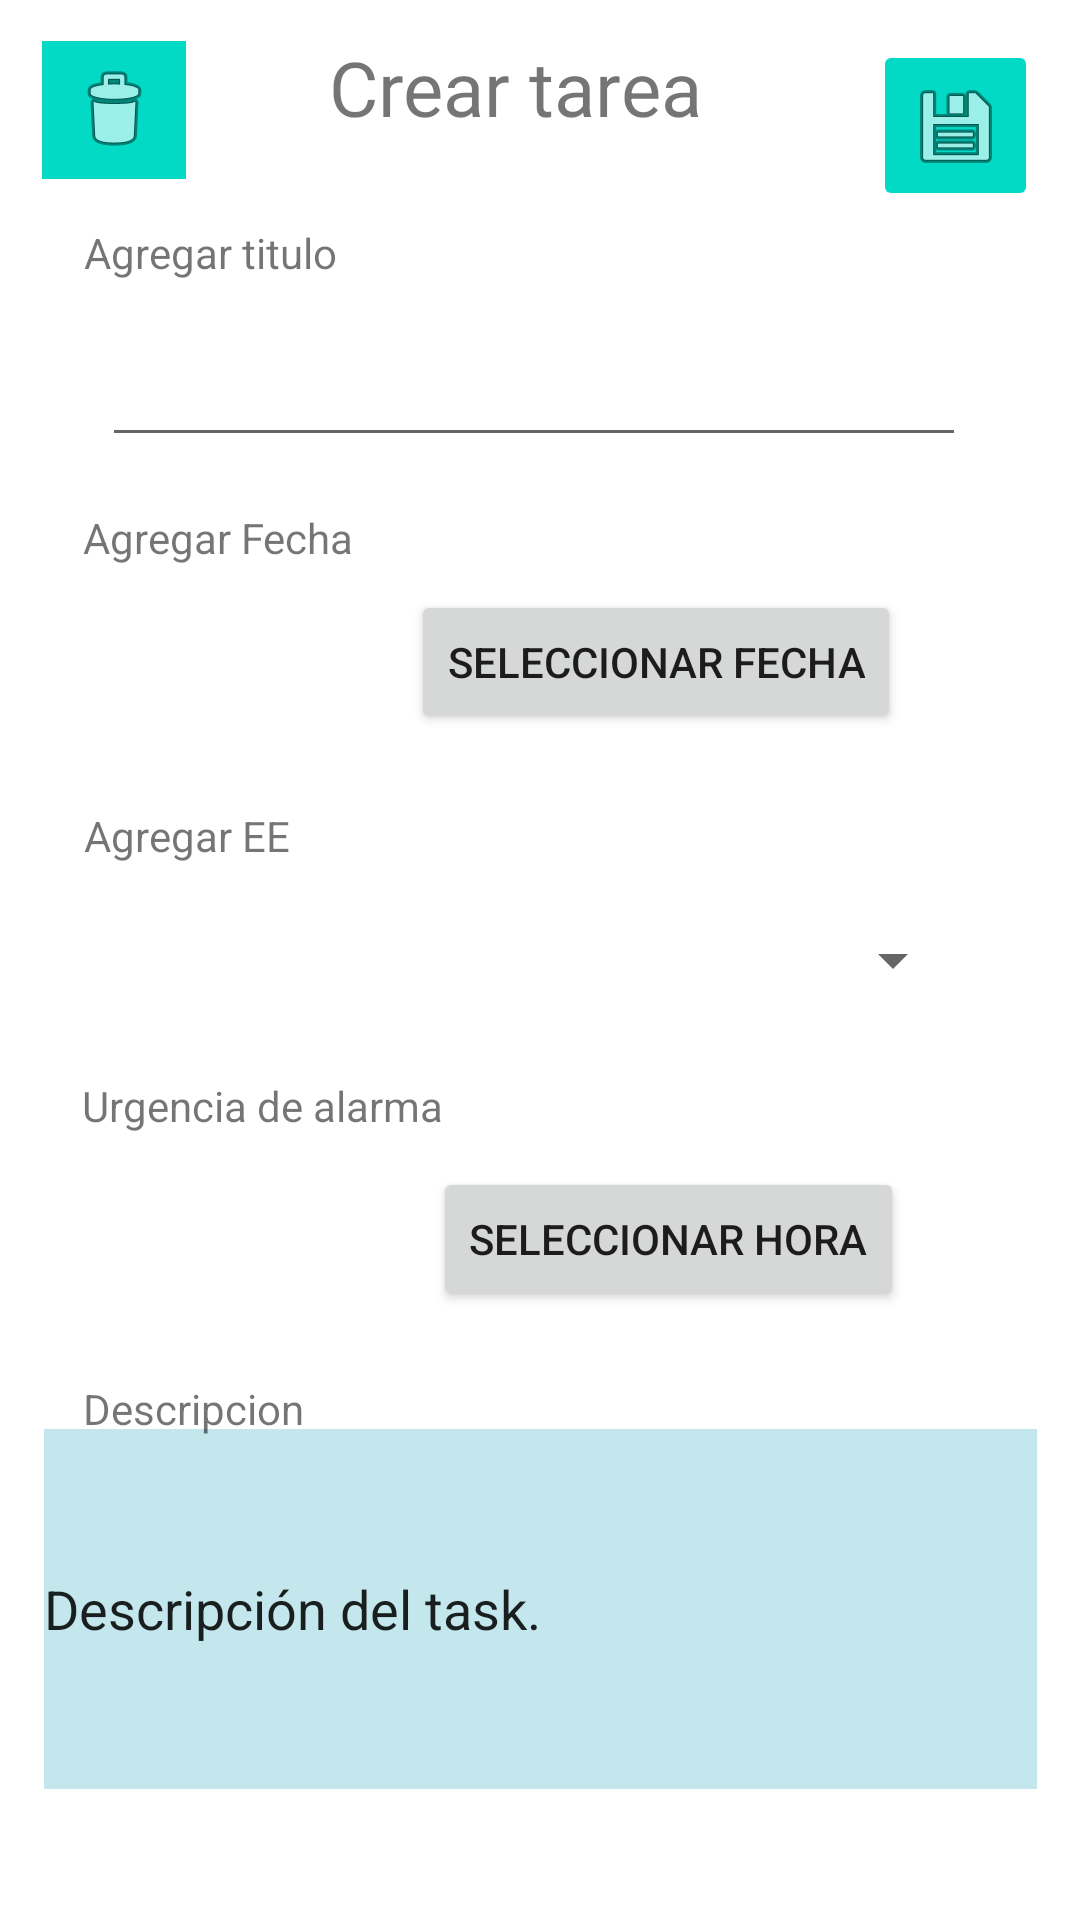

Icons on this 1080x1920 Android screen, each with the point to tap as [x,y]:
Boton para guardar el task: [955,125]
delete: [114,110]
